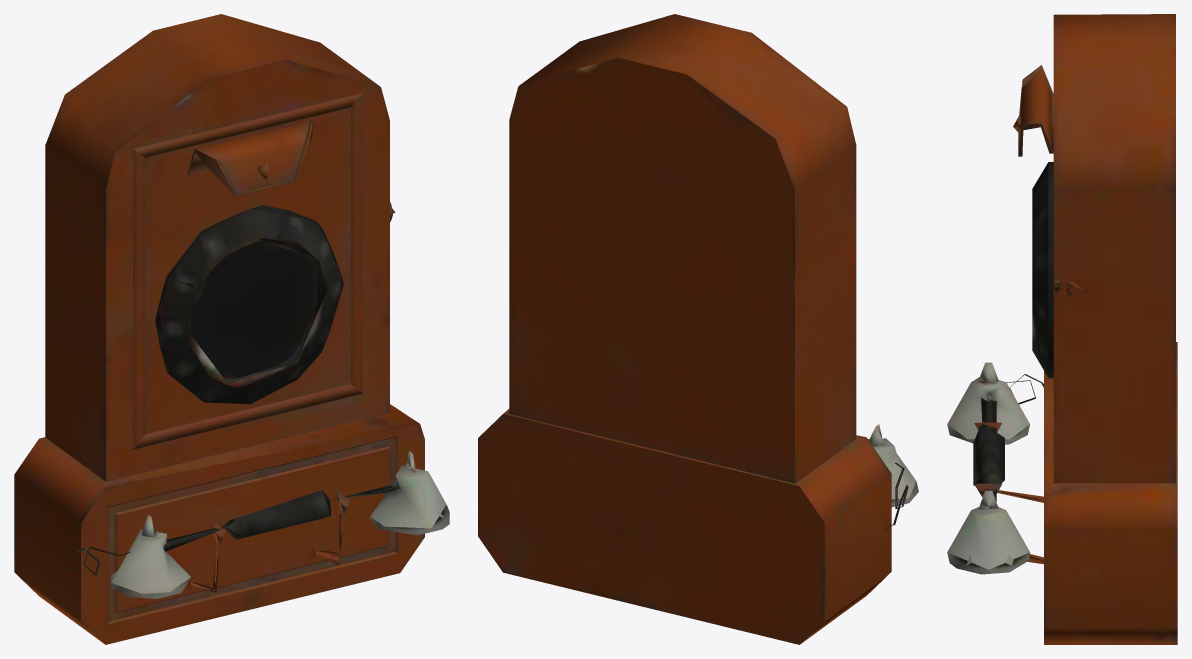
Rendered from vintage_telephone_wall_clock.glb.
3 views of the same model, side by side, from view 1: azimuth 30°, elevation 25°; view 2: azimuth 150°, elevation 25°; view 3: azimuth 270°, elevation 25° (orthographic).
Parts seen in each view (by area): view 1: vintage_telephone_wall_clock; view 2: vintage_telephone_wall_clock; view 3: vintage_telephone_wall_clock.
Boxes of the visible parts, x1,y1,x2,y2 form: vintage_telephone_wall_clock: [14, 14, 449, 644]; vintage_telephone_wall_clock: [478, 14, 918, 644]; vintage_telephone_wall_clock: [947, 14, 1177, 644].
Bounding box in the file's own units: 0.3421 × 0.4988 × 0.1926.
2 materials, 2 textured.
